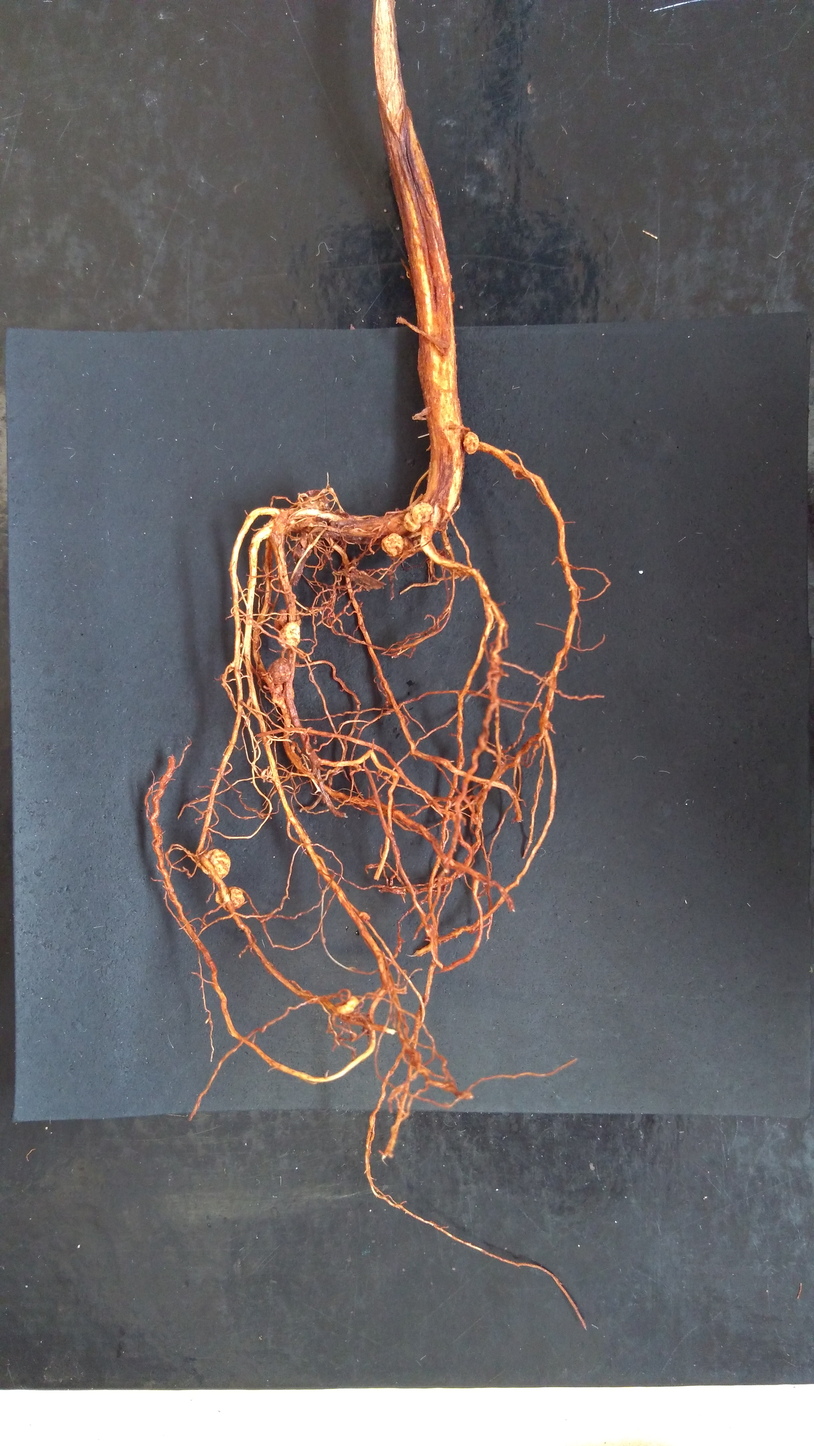nodule: (199, 847, 232, 881), (212, 885, 248, 911), (265, 656, 293, 685), (276, 621, 301, 649), (380, 531, 405, 558), (272, 609, 304, 630), (460, 429, 482, 459), (335, 994, 361, 1018), (411, 500, 435, 524), (403, 511, 422, 534)
